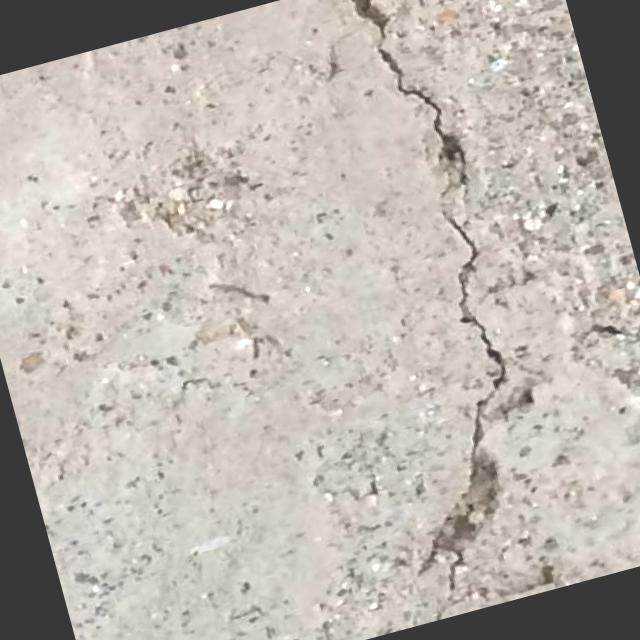crack: (259, 0, 603, 620)
spall: (372, 372, 602, 621)
